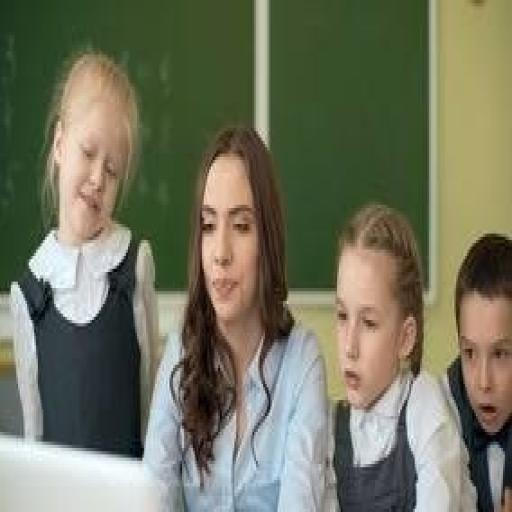sitting: (9, 44, 508, 506), (140, 122, 334, 508), (9, 45, 160, 461), (326, 198, 478, 509), (438, 230, 510, 509)
